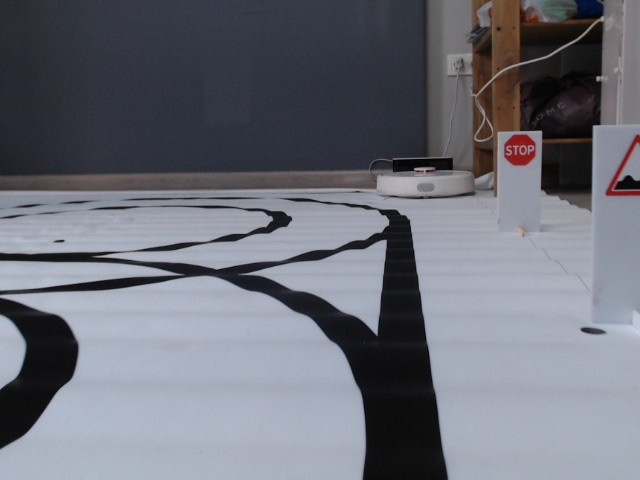Nerov: (605, 133, 640, 200)
Stop: (502, 133, 537, 167)
